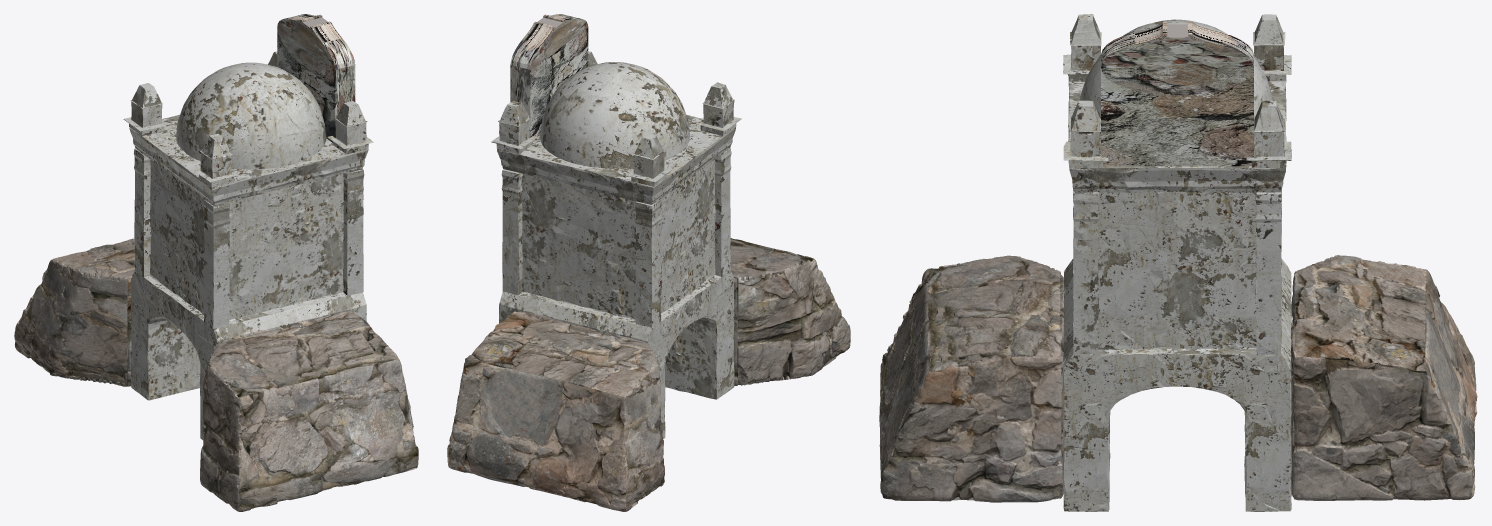
File: Capilla_4.glb
3 renders of one model, left to right at view 1: azimuth 30°, elevation 25°; view 2: azimuth 150°, elevation 25°; view 3: azimuth 270°, elevation 25°, orthographic. The views are drawn at different scales.
Parts seen in each view (by area): view 1: Rompeolas; view 2: Rompeolas; view 3: Rompeolas.
Part boxes in pixels (bbox=[...]): Rompeolas: bbox=[14, 14, 418, 511]; Rompeolas: bbox=[447, 14, 850, 511]; Rompeolas: bbox=[879, 14, 1477, 511].
Bounding box in the file's own units: 0.6817 × 1.15 × 1.3.
3 materials, 3 textured.
